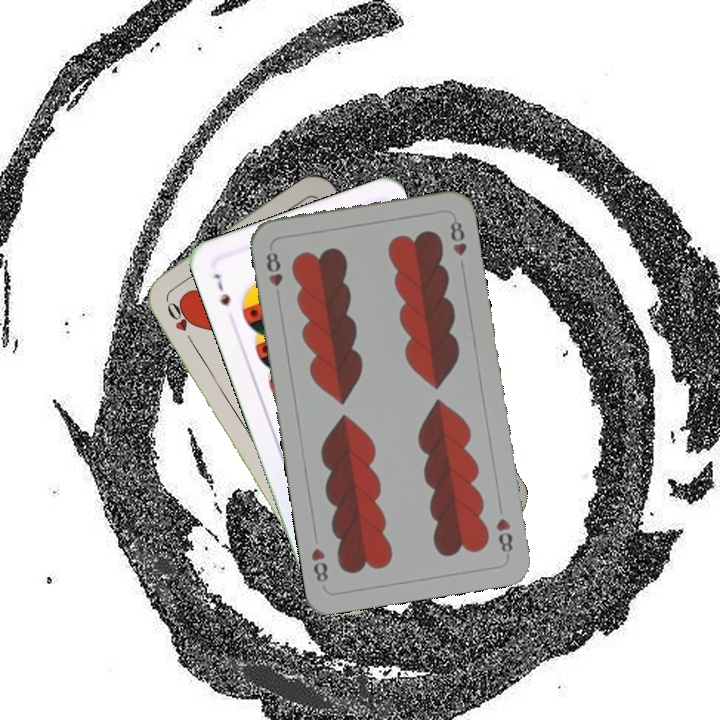H8: (492, 514, 515, 560), (262, 248, 285, 289)
HO: (161, 295, 197, 349)
S7: (209, 269, 233, 309)
